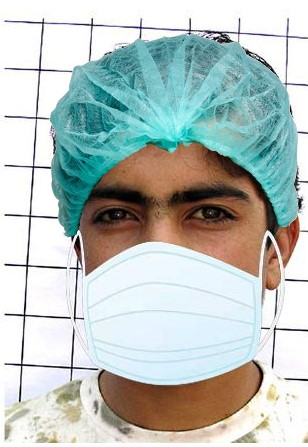with_mask_and_cap: (50, 34, 298, 381)
